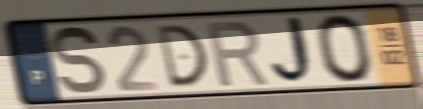2: (105, 23, 163, 94)
D: (154, 22, 211, 91)
J: (269, 14, 321, 88)
O: (312, 11, 376, 85)
R: (203, 19, 272, 89)
S: (50, 24, 109, 97)
